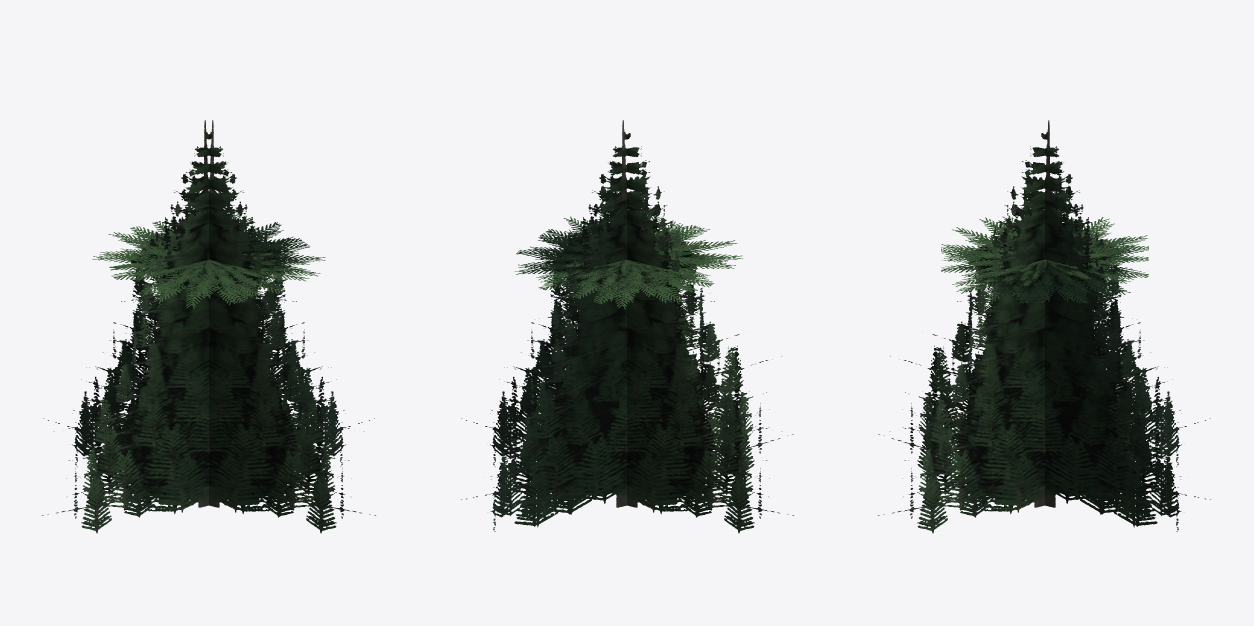
Rendered from Larch_0_LOD2.glb.
3 views of the same model, side by side, from view 1: azimuth 30°, elevation 25°; view 2: azimuth 150°, elevation 25°; view 3: azimuth 270°, elevation 25° (orthographic).
Visible parts, largest first — view 1: Larch_0_LOD2; view 2: Larch_0_LOD2; view 3: Larch_0_LOD2.
Part boxes in pixels (bbox=[...]): Larch_0_LOD2: bbox=[42, 120, 375, 533]; Larch_0_LOD2: bbox=[461, 120, 793, 533]; Larch_0_LOD2: bbox=[878, 120, 1210, 533].
Bounding box in the file's own units: 26 × 26 × 22.52.
Materials: 2 (2 with a texture image).
